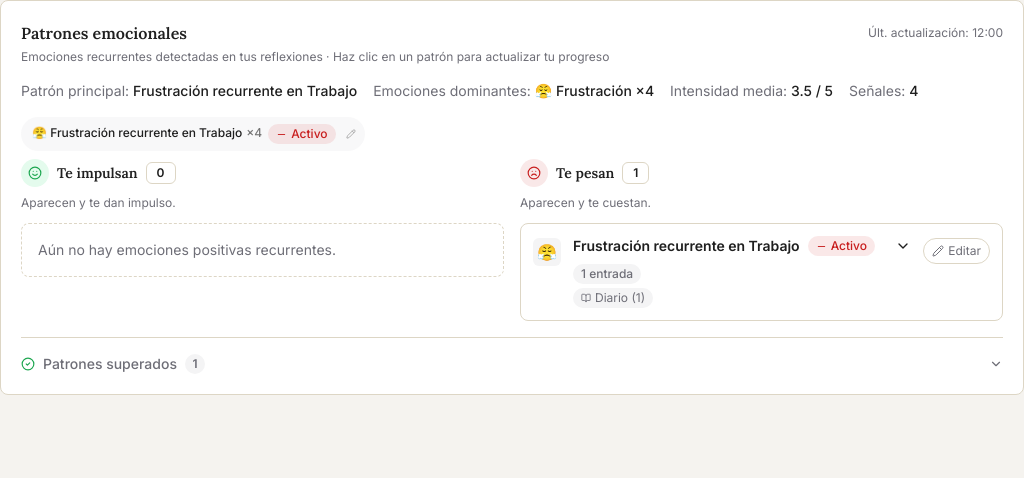
Test case: EmotionalPatternsPanel › resolved patterns render under "Patrones superados"
Expected: the text "Patrones superados" is shown, [43,355,177,372]
Click the button "Patrones superados 1" at (110,364), box [21,354,1003,374]
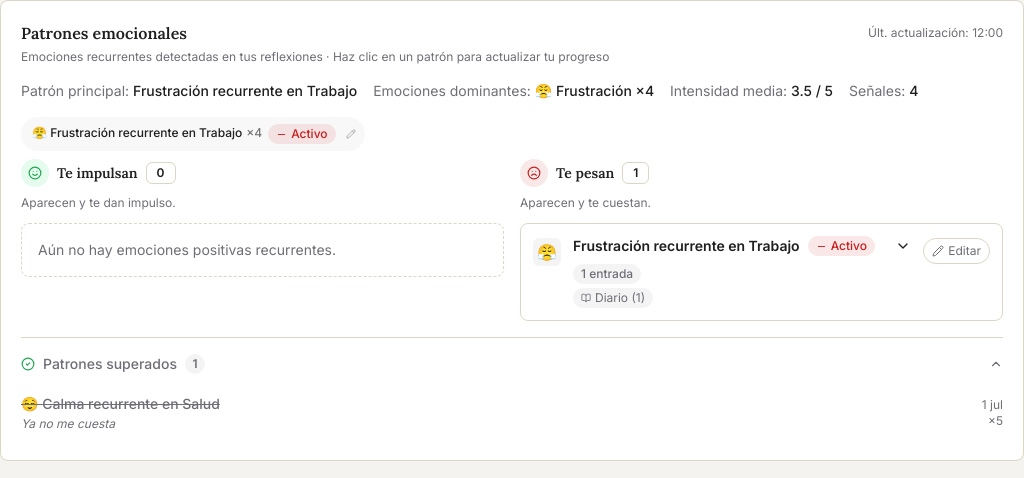
Expected: the text "😌 Calma recurrente en Salud" is shown, [21,394,220,414]
Expected: the text "Ya no me cuesta" is shown, [21,416,115,431]
